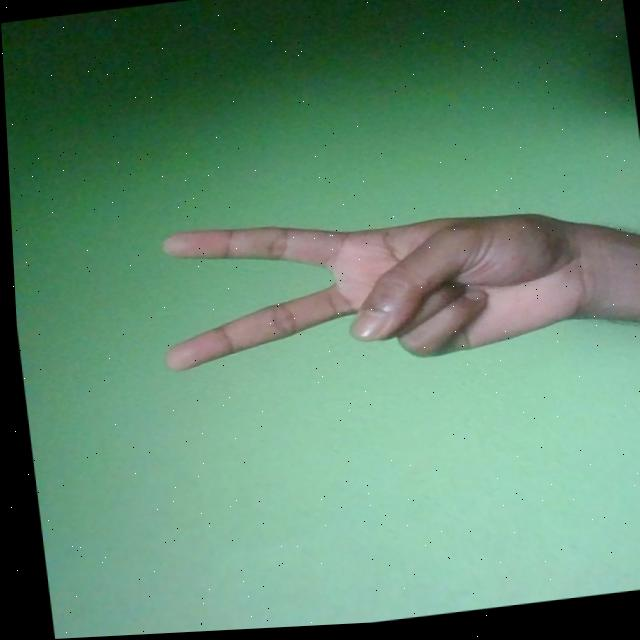Peace: (144, 187, 600, 389)
